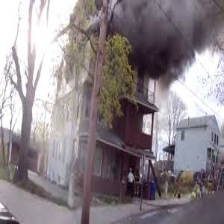smoke: (86, 3, 211, 67)
